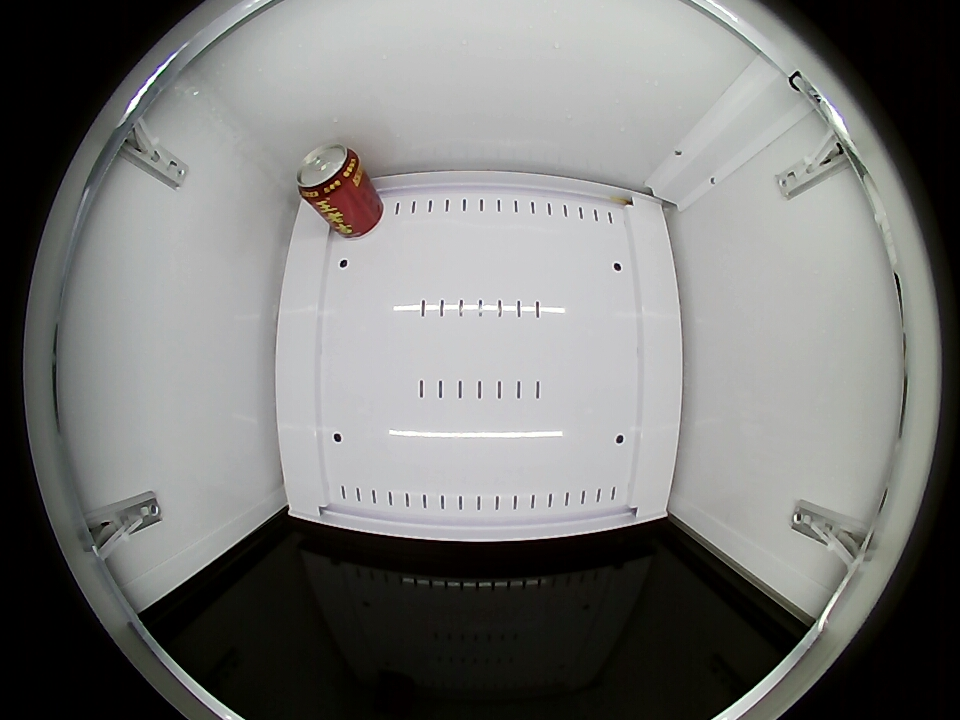wanglaoji-c: (296, 143, 362, 203)
